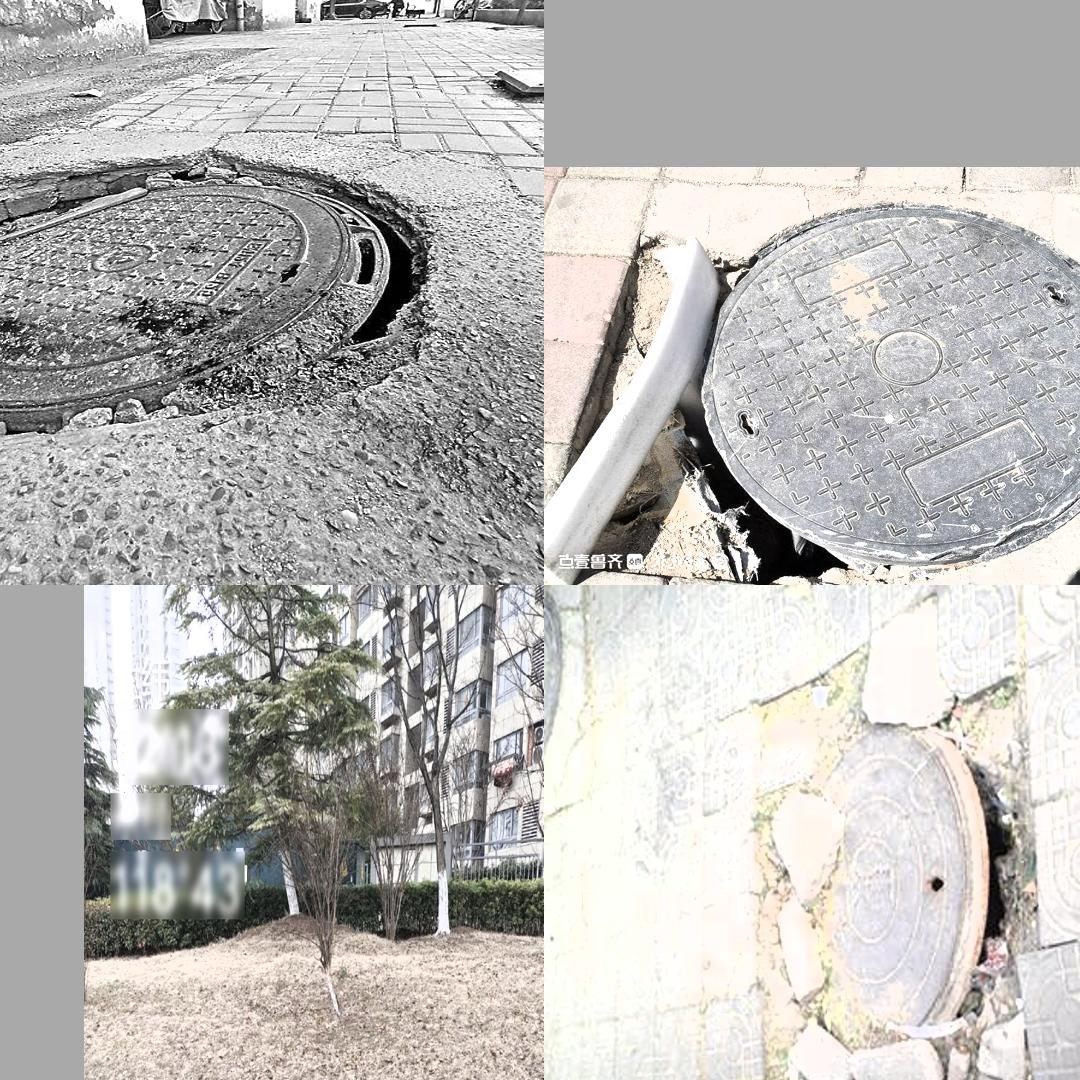circle: (0, 132, 461, 523), (589, 206, 1080, 573), (748, 676, 1069, 1080)
